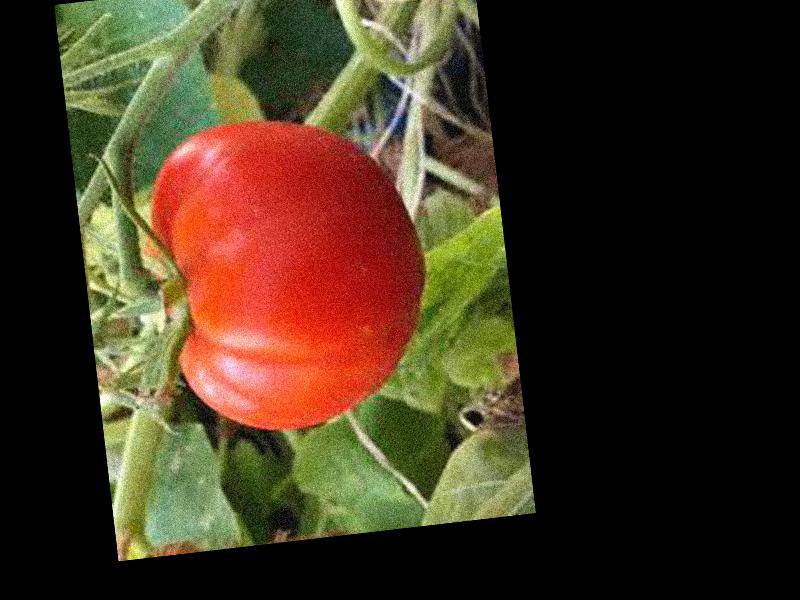Tomato: (141, 101, 438, 442)
